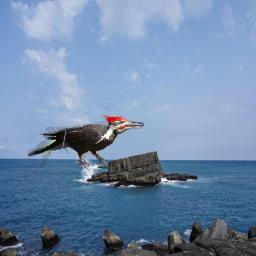Woodpecker: (28, 115, 144, 172)
